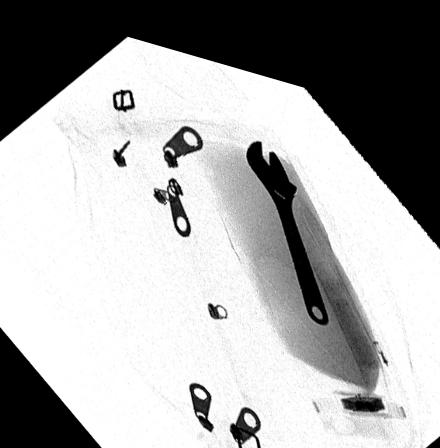Wrench: (242, 121, 331, 308)
